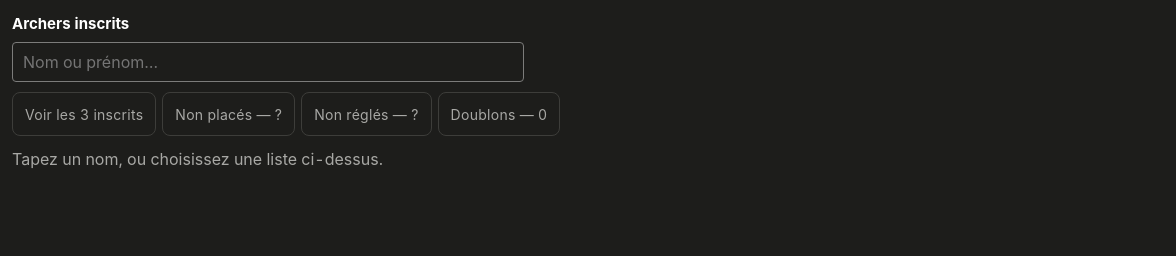
Test: signalement de doublon sur la ligne › aucun doublon : compteur à zéro, aucun signalement
The image size is (1176, 256).
Click the button "Voir les 3 inscrits". click: (84, 114)
box: [12,92,156,136]
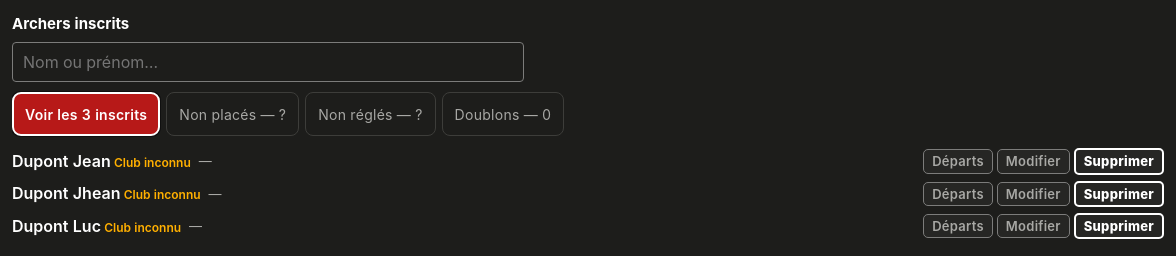
Expected: the button "Doublons — 0" is shown, [442,92,564,136]
Expected: the text "Dupont Luc Club inconnu" is shown, [12,215,181,237]
